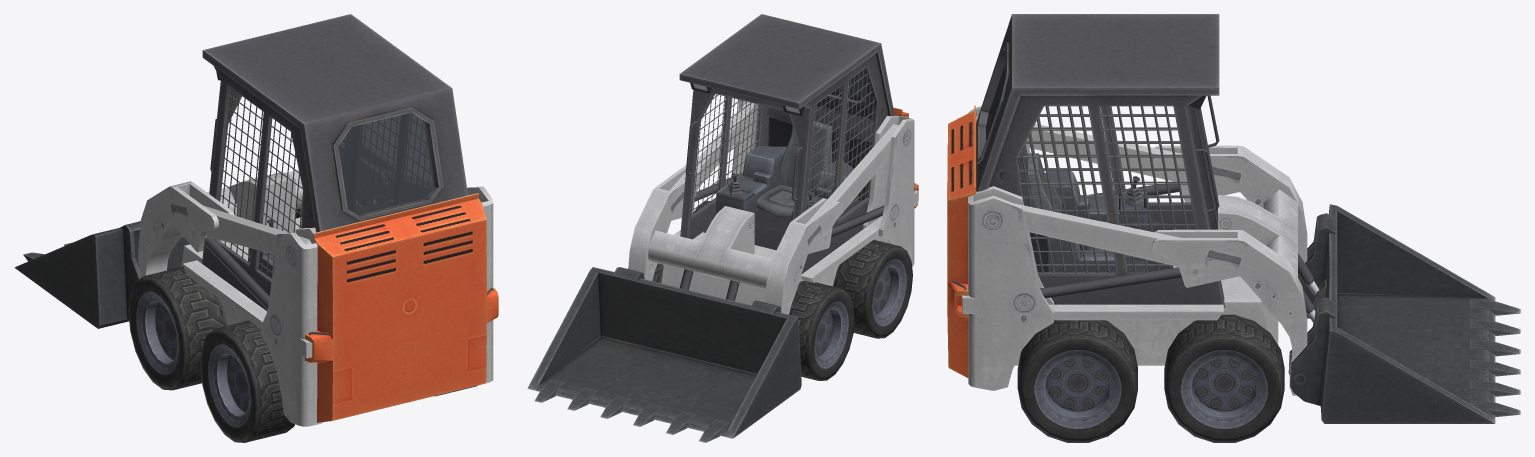
Rendered from Bobcat.glb.
3 views of the same model, side by side, from view 1: azimuth 30°, elevation 25°; view 2: azimuth 150°, elevation 25°; view 3: azimuth 270°, elevation 25° (orthographic). The views are drawn at different scales.
Parts seen in each view (by area): view 1: Bobcat__LOD4; view 2: Bobcat__LOD4; view 3: Bobcat__LOD4.
Boxes of the visible parts, x1,y1,x2,y2 form: Bobcat__LOD4: (14, 14, 498, 442); Bobcat__LOD4: (527, 14, 918, 442); Bobcat__LOD4: (947, 14, 1520, 442).
Bounding box in the file's own units: 1.86 × 2.28 × 3.55.
Materials: 2 (2 with a texture image).
